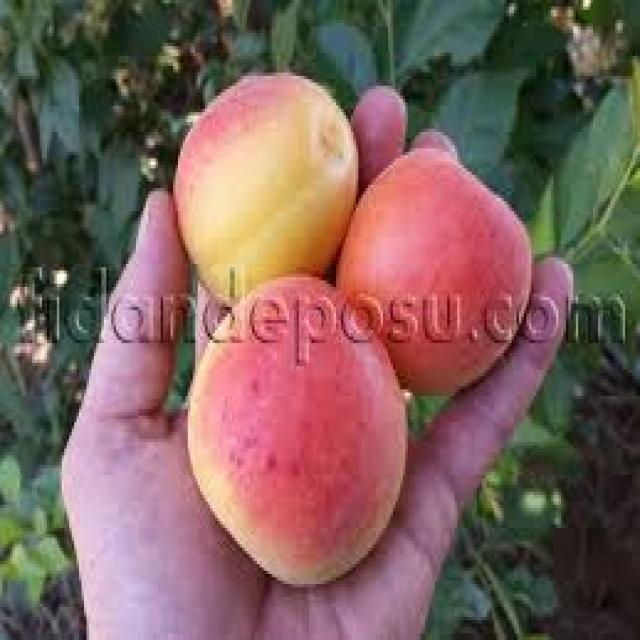kayisi: (153, 77, 533, 554)
